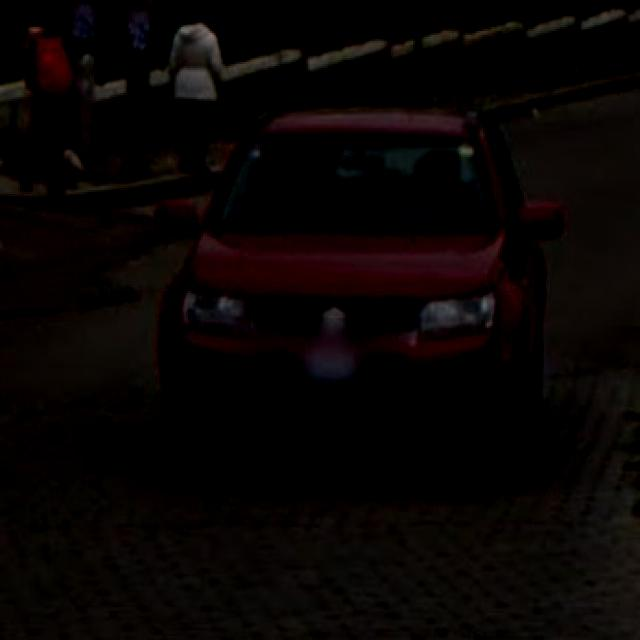car: (151, 109, 569, 476)
